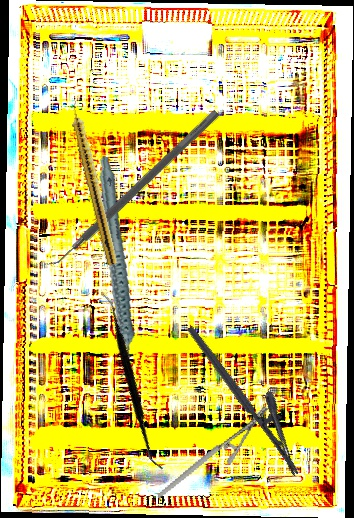Handpiece: (72, 155, 157, 379), (66, 99, 122, 266)
Needle Holder: (185, 310, 321, 478), (141, 404, 284, 499)
Spatula Surgical: (41, 291, 225, 471), (40, 102, 221, 277)
